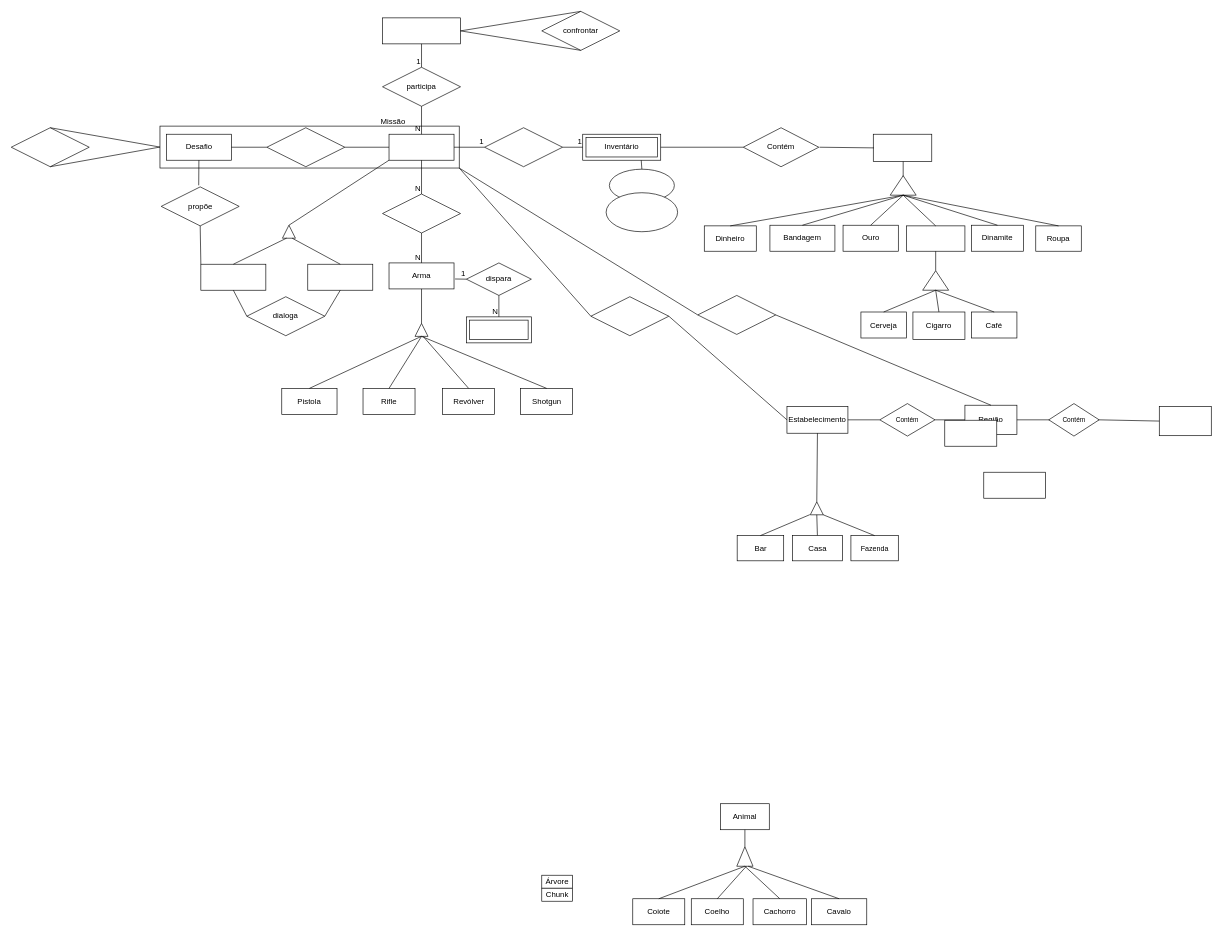
The diagram is 1223 pixels wide and 937 high, and some of its shapes have lost their labels. The shapes that lost their labels are listed below. From the top down, each one's centre as x and y in pixels, then its label:
the point at 421,30: Gangue
the point at 50,147: depende
the point at 305,147: aceitar
the point at 421,147: Personagem
the point at 523,147: possui
the point at 902,148: Item
the point at 641,185: Capacidade
the point at 421,213: utiliza
the point at 641,212: Nome do Item
the point at 935,238: Consumível
the point at 233,277: NPC
the point at 340,277: Jogador
the point at 498,329: Projétil
the point at 629,316: entra
the point at 736,314: acessa
the point at 970,433: Transporte
the point at 1185,421: Mapa
the point at 1014,485: Carroça
